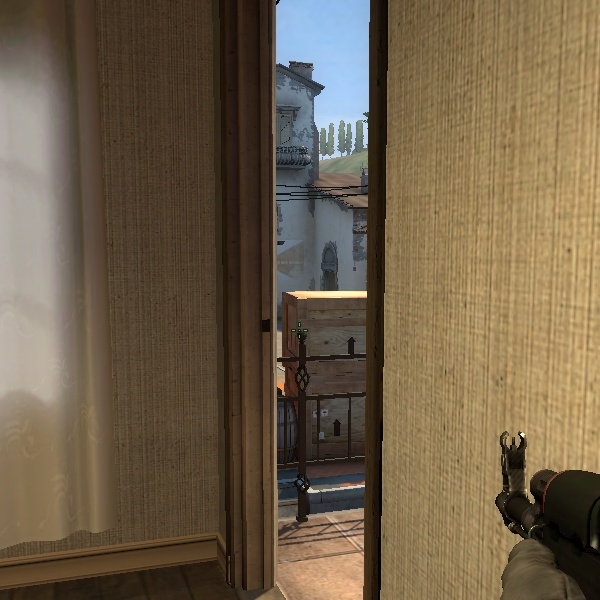ct_body: (287, 474, 316, 525)
